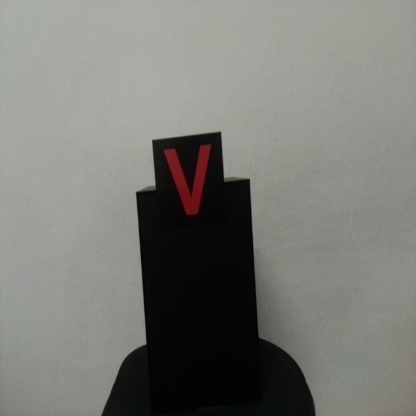id_11: (151, 140, 222, 229)
